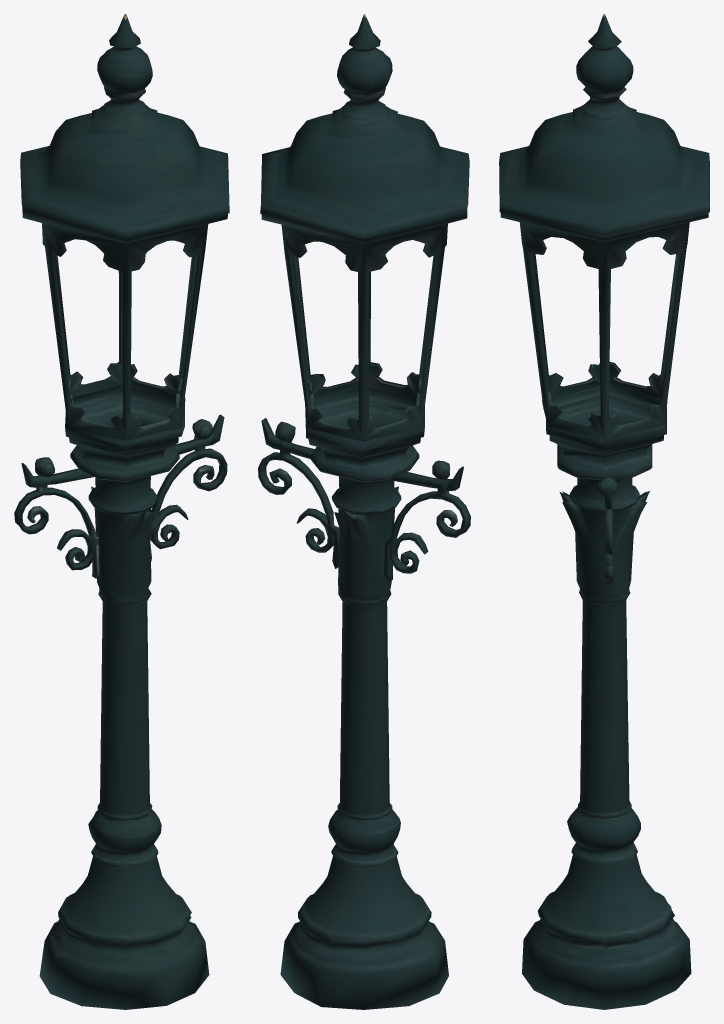
File: streetlamp.glb
3 views of the same model, side by side, from view 1: azimuth 30°, elevation 25°; view 2: azimuth 150°, elevation 25°; view 3: azimuth 270°, elevation 25° (orthographic).
Bounding box in the file's own units: 0.2172 × 0.9521 × 0.1895.
Materials: 1 (1 with a texture image).
